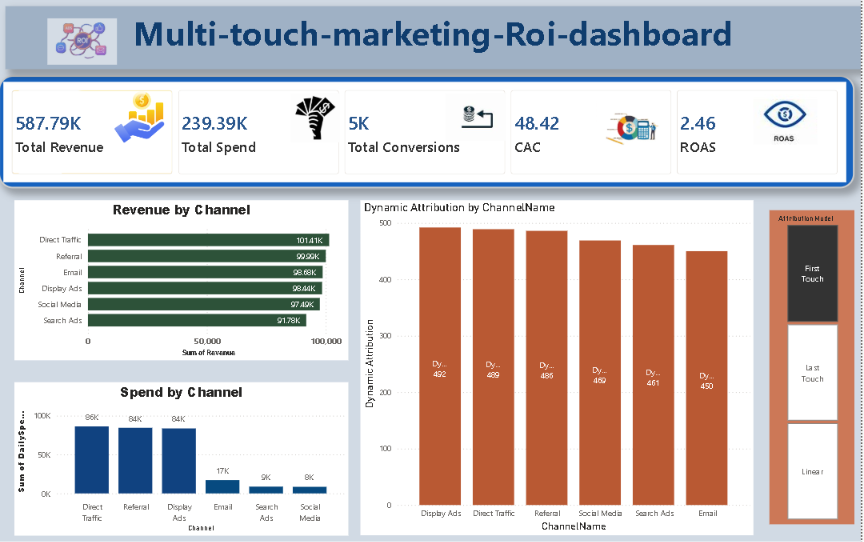

Layout of this report page (visuals, bound fields, positions):
{"tool":"powerbi","page":{"name":"Executive Attribution Overview","canvas":[1250,800],"ordinal":0},"visuals":[{"type":"clusteredColumnChart","title":"Spend by Channel","fields":{"Category":["AdSpend.Channel"],"Y":["Sum(AdSpend.DailySpend)"]},"box":[23.5,554.8,484.4,222.2],"z":0},{"type":"cardVisual","fields":{"Data":["AdSpend.Total Revenue","AdSpend.Total Spend","AdSpend.Total Conversions","DimChannel.CAC","DimChannel.ROAS"]},"box":[0,110.4,1240.6,164.2],"z":2000},{"type":"clusteredBarChart","title":"Revenue by Channel","fields":{"Category":["FactMarketingPerformance.Channel"],"Y":["Sum(FactMarketingPerformance.Revenue)"]},"box":[23.5,291.2,484.4,231.8],"z":3000},{"type":"image","box":[160.1,133.9,89.7,74.5],"z":4000},{"type":"image","box":[409.5,136.9,98.6,71.2],"z":5000},{"type":"image","box":[624.5,136.9,134.2,68.5],"z":6000},{"type":"image","box":[1076.4,138,127,73.1],"z":7000},{"type":"image","box":[866.6,132.5,104.9,100.7],"z":8000},{"type":"textbox","box":[9.7,9.7,1240.6,91.1],"z":9000},{"type":"image","box":[70.4,9.7,100.7,102.1],"z":10000},{"type":"slicer","fields":{"Values":["SlicerAttribution (2).AttributionModel"]},"box":[1117.8,306.4,122.8,455.4],"z":13000},{"type":"clusteredColumnChart","fields":{"Category":["DimChannel.ChannelName"],"Y":["FactAttributionWeights.Dynamic Attribution"]},"box":[524.4,291.2,569.9,485.8],"z":14000}]}

Visuals, with their boxes in screenshot pixels (x1, y1, x2, y2), scaled from the page's 1250x800 canvas onto the 864x542 screenshot:
"Spend by Channel" clusteredColumnChart: [x1=16, y1=376, x2=351, y2=526]
cardVisual - AdSpend.Total Revenue x AdSpend.Total Spend: [x1=0, y1=75, x2=858, y2=186]
"Revenue by Channel" clusteredBarChart: [x1=16, y1=197, x2=351, y2=354]
image: [x1=111, y1=91, x2=173, y2=141]
image: [x1=283, y1=93, x2=351, y2=141]
image: [x1=432, y1=93, x2=524, y2=139]
image: [x1=744, y1=93, x2=832, y2=143]
image: [x1=599, y1=90, x2=672, y2=158]
textbox: [x1=7, y1=7, x2=863, y2=68]
image: [x1=49, y1=7, x2=118, y2=76]
slicer - SlicerAttribution (2).AttributionModel: [x1=773, y1=208, x2=858, y2=516]
clusteredColumnChart - DimChannel.ChannelName x FactAttributionWeights.Dynamic Attribution: [x1=362, y1=197, x2=756, y2=526]
